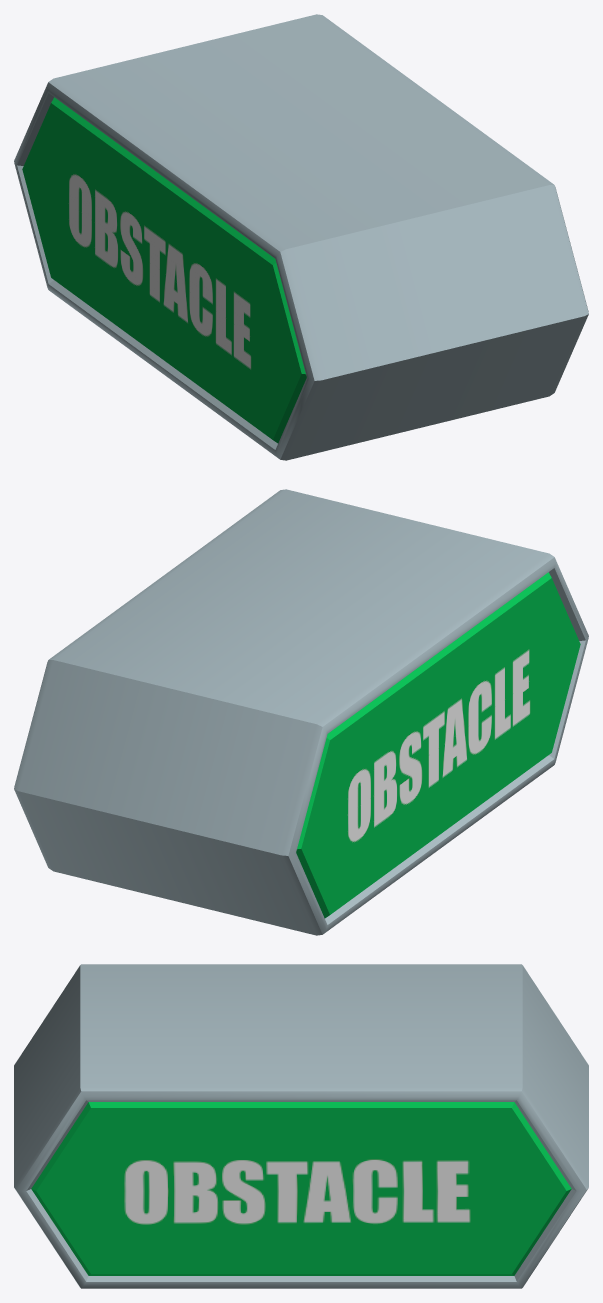
Rendered from CONDITION_FOR_IF.fbx.
The picture shows the model from 3 angles, top to bottom: view 1: azimuth 30°, elevation 25°; view 2: azimuth 150°, elevation 25°; view 3: azimuth 270°, elevation 25°; orthographic projection. The views are drawn at different scales.
Parts seen in each view (by area): view 1: Condition_for_If; view 2: Condition_for_If; view 3: Condition_for_If.
Boxes of the visible parts, left/top/right/bottom form: Condition_for_If: left=14, top=14, right=588, bottom=460; Condition_for_If: left=14, top=489, right=588, bottom=935; Condition_for_If: left=14, top=964, right=588, bottom=1288.
Size of the model in its own units: 188 by 100 by 72.4.
